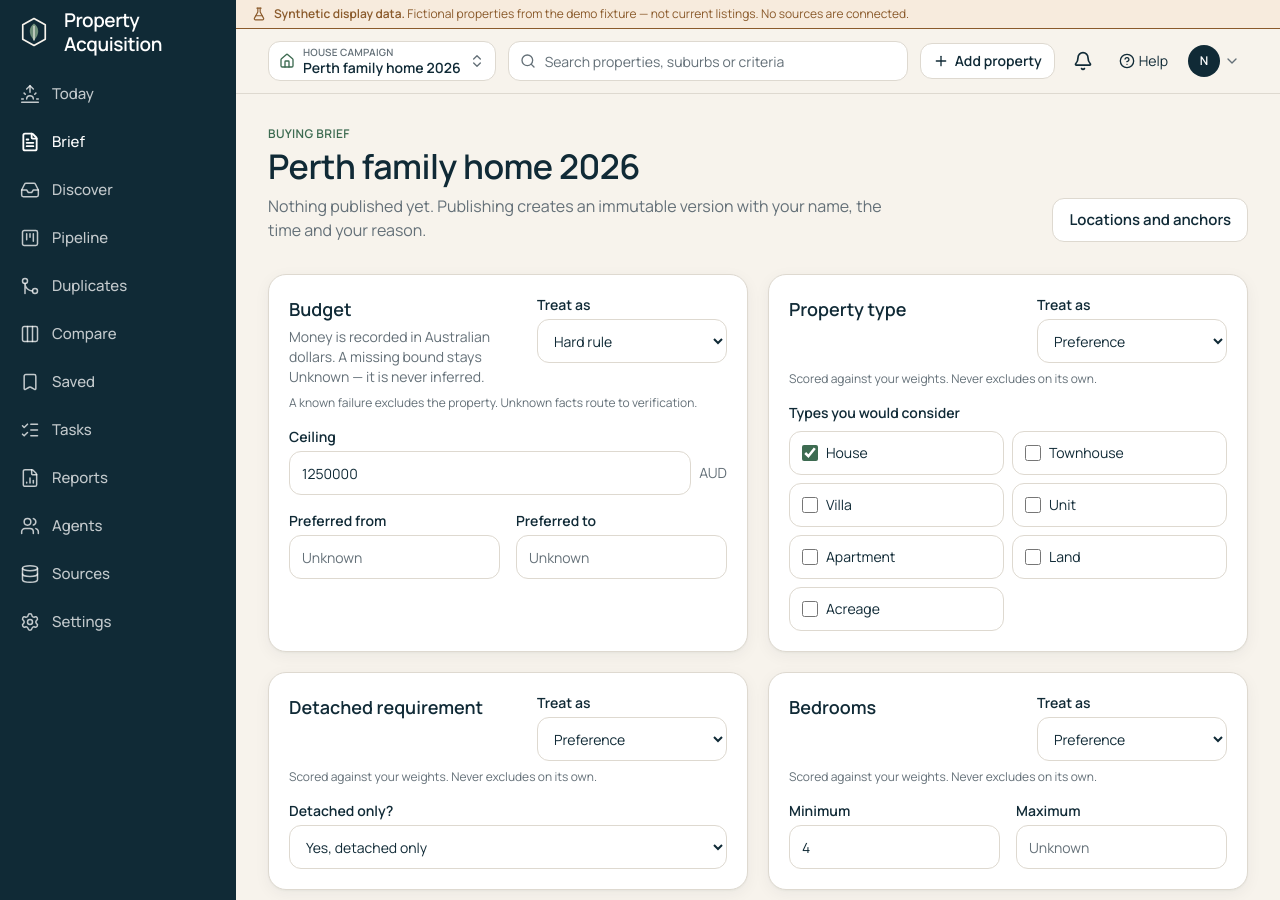
buying brief › explains what each mode means so Unknown is never read as a pass
This screenshot has width=1280, height=900.
Expected: the text with test id "budget-mode-help" shows "known failure excludes", left=289, top=394, right=697, bottom=411
Step 1. Select "Unknown" in the dropdown with test id "beds-mode" → {"x": 1132, "y": 739}, box left=1037, top=717, right=1227, bottom=761
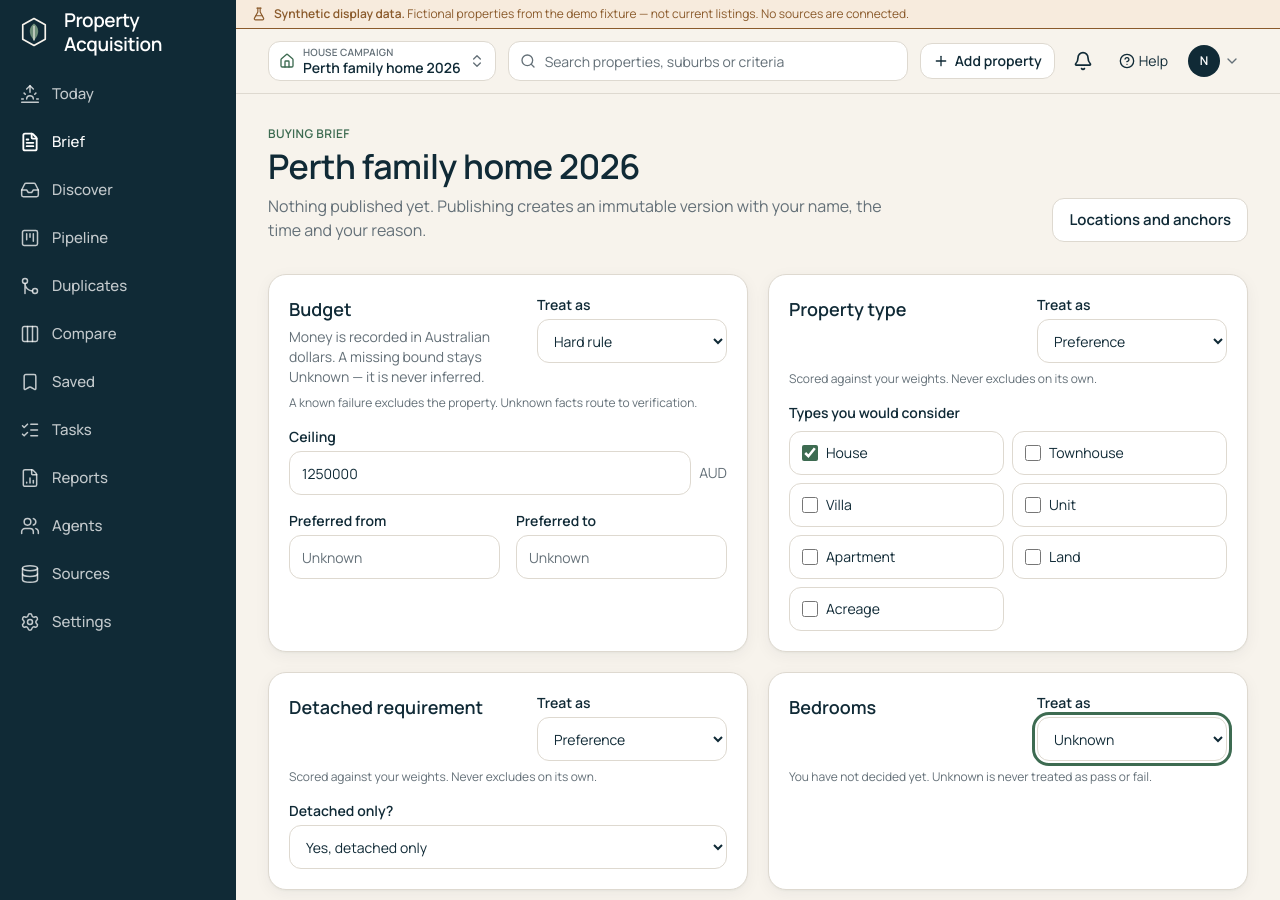
Expected: the text with test id "beds-mode-help" shows "never treated as pass or fail", left=789, top=768, right=1152, bottom=785
